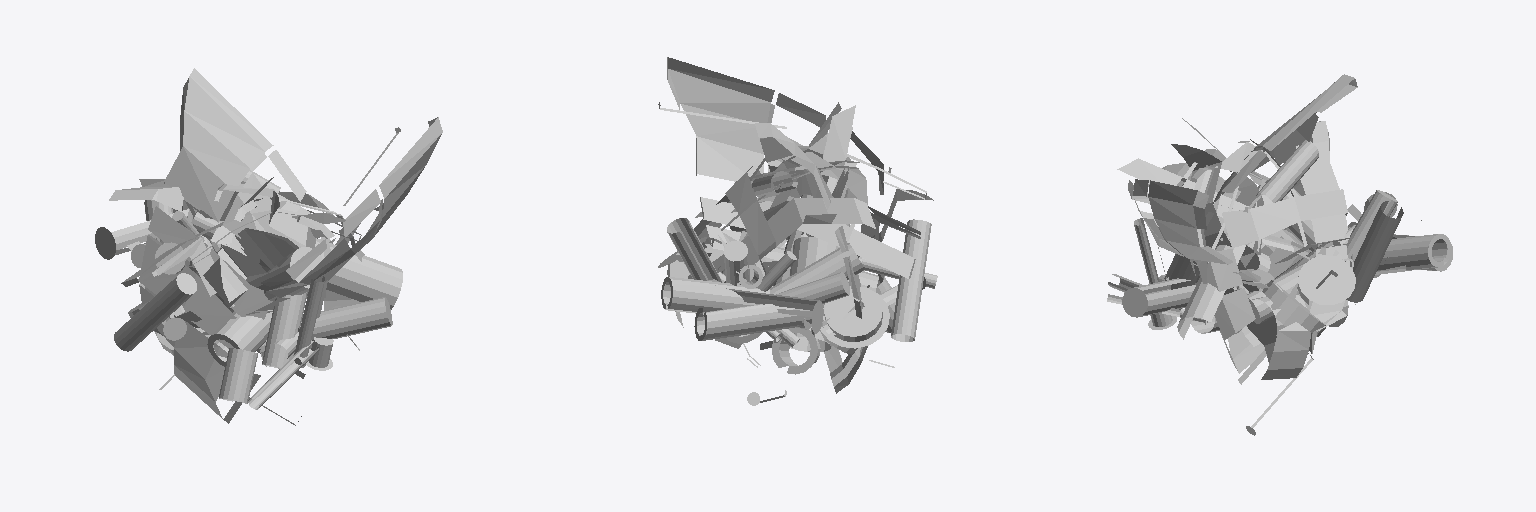
Rendered from MonsterA2_die9.obj.
The picture shows the model from 3 angles: view 1: azimuth 30°, elevation 25°; view 2: azimuth 150°, elevation 25°; view 3: azimuth 270°, elevation 25°; orthographic projection.
Parts seen in each view (by area): view 1: Box001; view 2: Box001; view 3: Box001.
Boxes of the visible parts, box(x1,y1,x2,y2) form: Box001: box(95, 68, 442, 425); Box001: box(658, 57, 937, 405); Box001: box(1107, 74, 1452, 435).
Bounding box in the file's own units: 246 × 272 × 257.